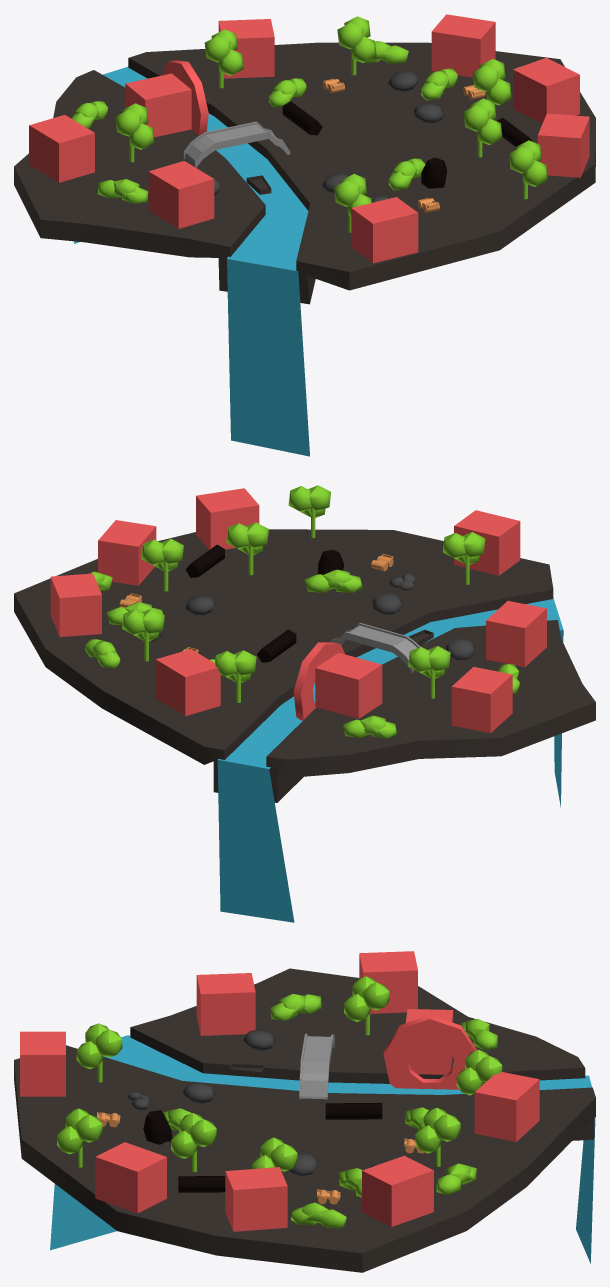
Rendered from Modelo Maqueta_02.FBX.
3 renders of one model, top to bottom at view 1: azimuth 30°, elevation 25°; view 2: azimuth 150°, elevation 25°; view 3: azimuth 270°, elevation 25°, orthographic. The views are drawn at different scales.
Parts seen in each view (by area): view 1: Plane002, Plane003, molino_casa, casa_002, casa_008, casa_006, casa_007, casa_004, casa_003, casa_005, Puente, arbol_003 (+14 smaller); view 2: Plane002, Plane003, molino_casa, casa_005, casa_006, casa_008, casa_004, casa_007, casa_002, casa_003, Puente, arbol_004 (+11 smaller); view 3: Plane002, Plane003, molino_casa, casa_004, casa_003, casa_005, casa_007, casa_008, casa_002, casa_006, Puente, arbol_006 (+17 smaller).
Part boxes in pixels (<box>): Plane002: <box>14,42,595,304</box>; Plane003: <box>74,66,309,456</box>; molino_casa: <box>125,60,208,137</box>; casa_002: <box>351,197,418,263</box>; casa_008: <box>148,161,214,228</box>; casa_006: <box>29,115,94,182</box>; casa_007: <box>513,57,579,123</box>; casa_004: <box>431,14,495,77</box>; casa_003: <box>537,113,589,177</box>; casa_005: <box>218,19,274,78</box>; Puente: <box>183,121,290,167</box>; arbol_003: <box>337,16,376,75</box>; Plane002: <box>14,529,595,802</box>; Plane003: <box>217,598,563,922</box>; molino_casa: <box>293,642,382,720</box>; casa_005: <box>155,649,220,716</box>; casa_006: <box>451,666,512,733</box>; casa_008: <box>486,601,546,667</box>; casa_004: <box>50,573,101,636</box>; casa_007: <box>98,520,156,585</box>; casa_002: <box>454,510,520,575</box>; casa_003: <box>196,488,259,549</box>; Puente: <box>331,623,420,672</box>; arbol_004: <box>141,538,183,591</box>; Plane002: <box>14,968,595,1272</box>; Plane003: <box>50,1035,595,1263</box>; molino_casa: <box>383,1009,476,1089</box>; casa_004: <box>362,1155,433,1226</box>; casa_003: <box>95,1142,166,1213</box>; casa_005: <box>474,1071,539,1141</box>; casa_007: <box>225,1167,287,1231</box>; casa_008: <box>196,973,255,1035</box>; casa_002: <box>20,1031,65,1096</box>; casa_006: <box>359,951,417,1013</box>; Puente: <box>299,1033,334,1099</box>; arbol_006: <box>76,1023,122,1082</box>.
Bounding box in the file's own units: 2890 × 1237 × 2494.
